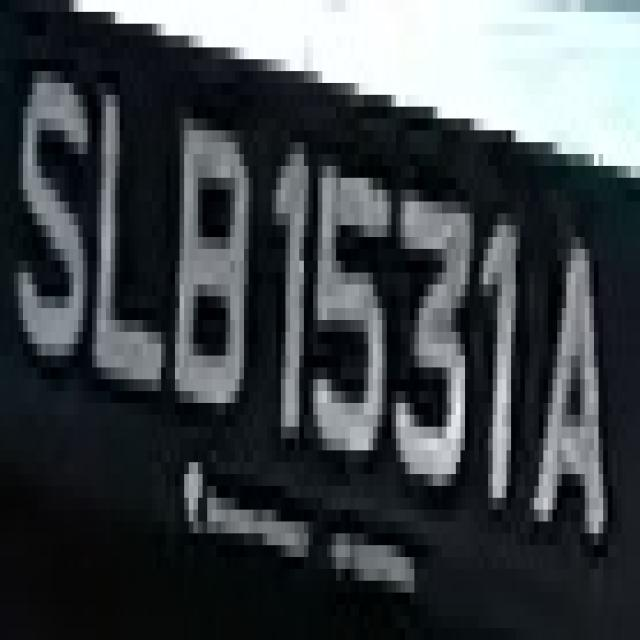1: (474, 166, 520, 533), (272, 118, 313, 450)
3: (382, 154, 470, 486)
5: (304, 106, 400, 498)
A: (525, 190, 621, 580)
B: (166, 95, 258, 474)
L: (83, 36, 166, 427)
S: (9, 24, 92, 391)
